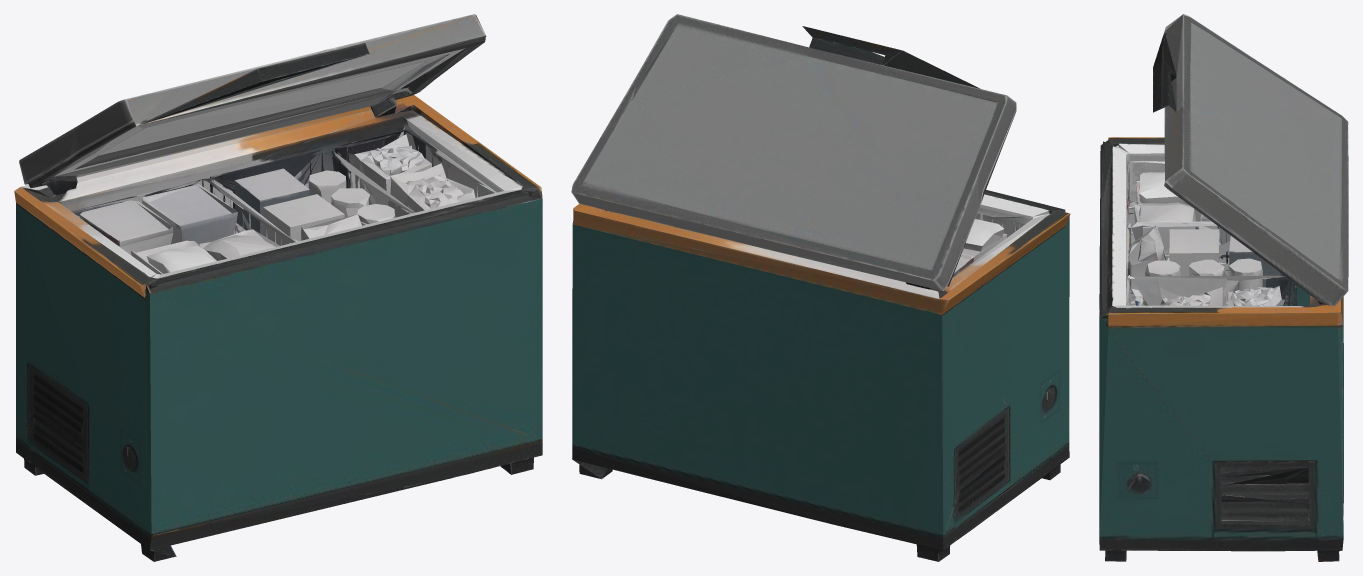
The model's file is fishFreezer.glb.
3 renders of one model, left to right at view 1: azimuth 30°, elevation 25°; view 2: azimuth 150°, elevation 25°; view 3: azimuth 270°, elevation 25°, orthographic. The views are drawn at different scales.
Parts seen in each view (by area): view 1: Mesh_0; view 2: Mesh_0; view 3: Mesh_0.
Boxes of the visible parts, box(x1,y1,x2,y2) form: Mesh_0: box(14, 14, 542, 561); Mesh_0: box(571, 14, 1070, 561); Mesh_0: box(1099, 14, 1348, 561).
Size of the model in its own units: 0.82 by 0.85 by 0.4863.
Materials: 1 (1 with a texture image).
